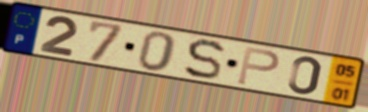0: (136, 30, 178, 73), (286, 55, 324, 97)
2: (37, 15, 82, 60)
7: (86, 18, 126, 64)
P: (234, 45, 282, 87)
S: (182, 37, 227, 82)
